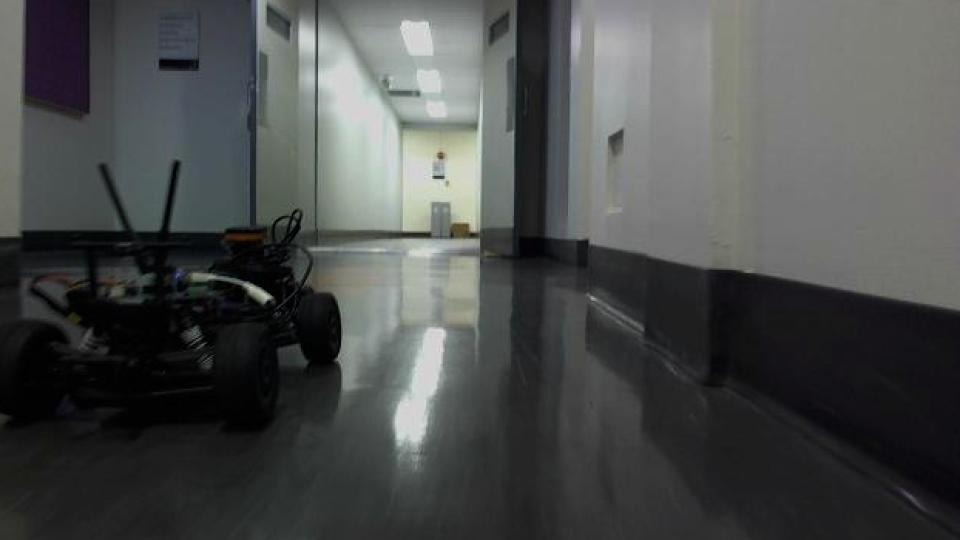car: (0, 157, 346, 430)
